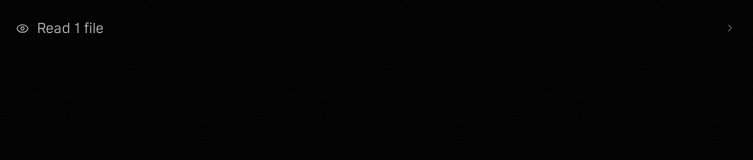
it: MessagesTimeline › keeps expanded thought and tool rows flat inside one collapsed summary
Expected: the text "Checking code" is not shown
Expected: the text "Read src/main.ts" is not shown
Click the button "Read 1 file".
click(70, 28)  # box [16,16,736,40]
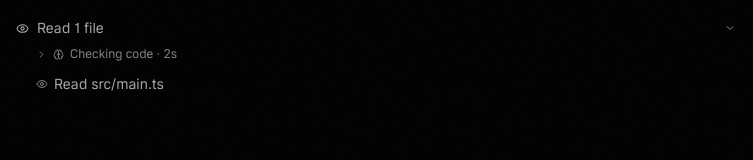
Result: the button "Read 1 file" is expanded at [16,16,736,40]
